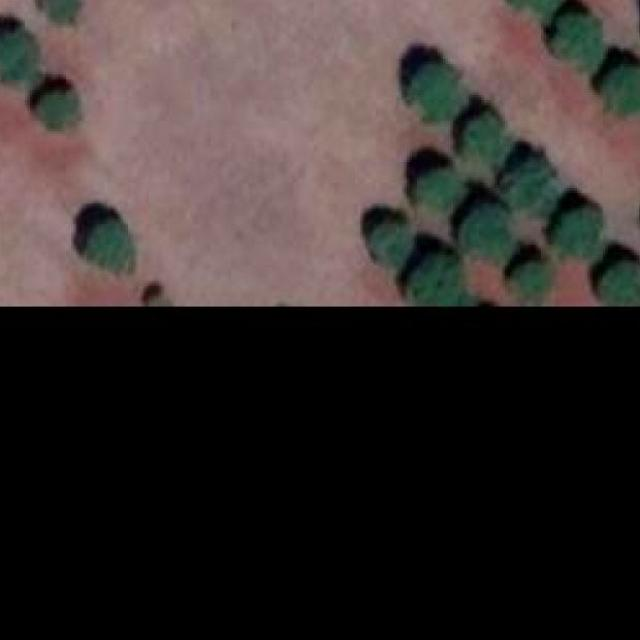Tree: (78, 213, 138, 276), (404, 64, 466, 124), (402, 250, 462, 304), (546, 12, 601, 70), (458, 201, 515, 256), (502, 155, 560, 206), (553, 203, 603, 260), (0, 28, 49, 85), (463, 116, 510, 172), (371, 217, 417, 271), (592, 254, 640, 304), (597, 64, 640, 115), (412, 164, 453, 214), (30, 88, 74, 129), (510, 258, 554, 294), (502, 0, 564, 15), (38, 0, 76, 18)
